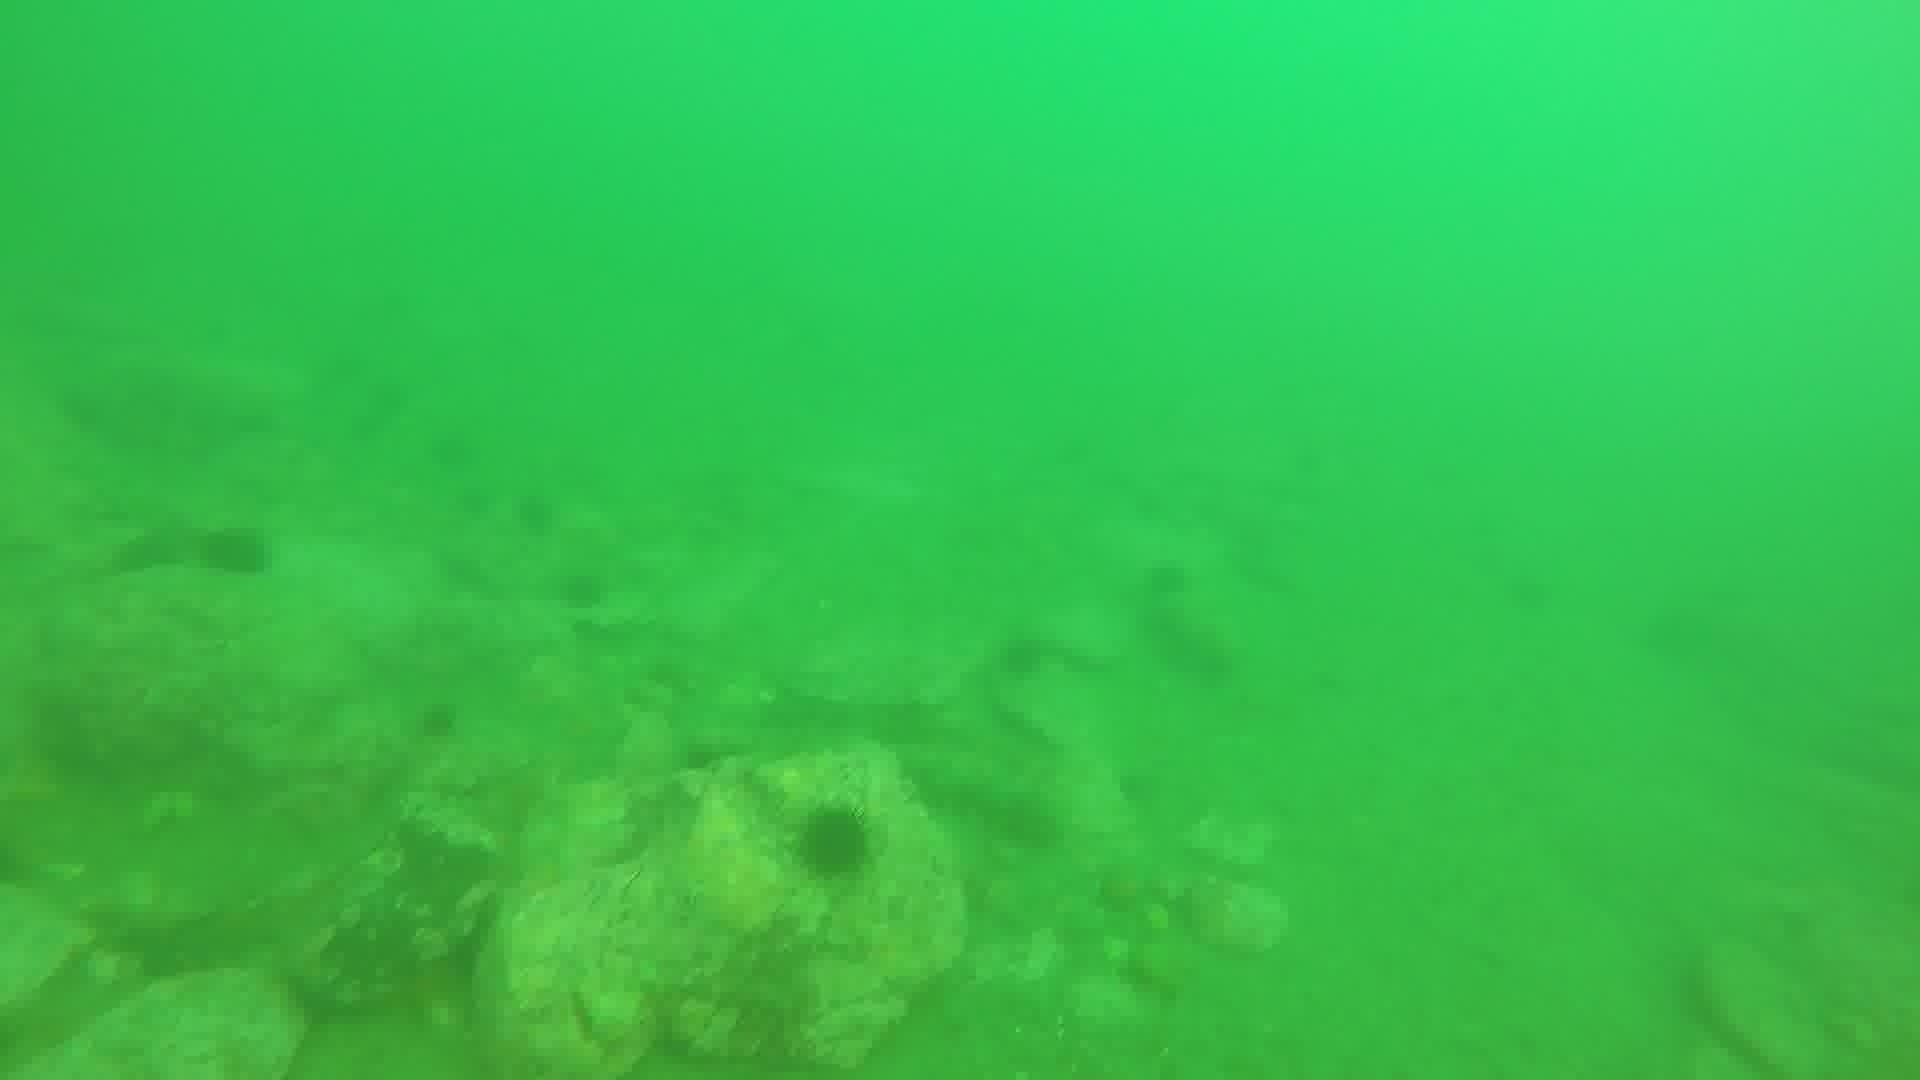echinus: (789, 799, 880, 884), (194, 521, 276, 583), (992, 629, 1052, 684), (553, 566, 612, 615), (509, 488, 560, 539), (411, 698, 465, 746)
holothurian: (897, 741, 1060, 845)
